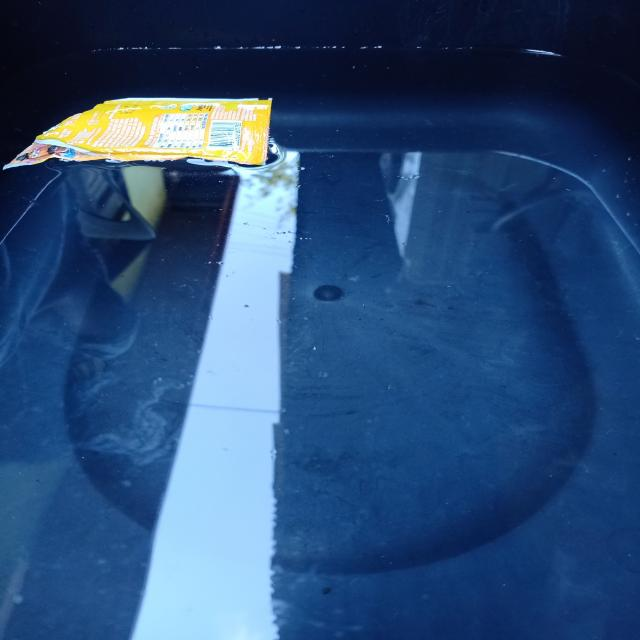Plastic Wrapper: (0, 85, 284, 175)
